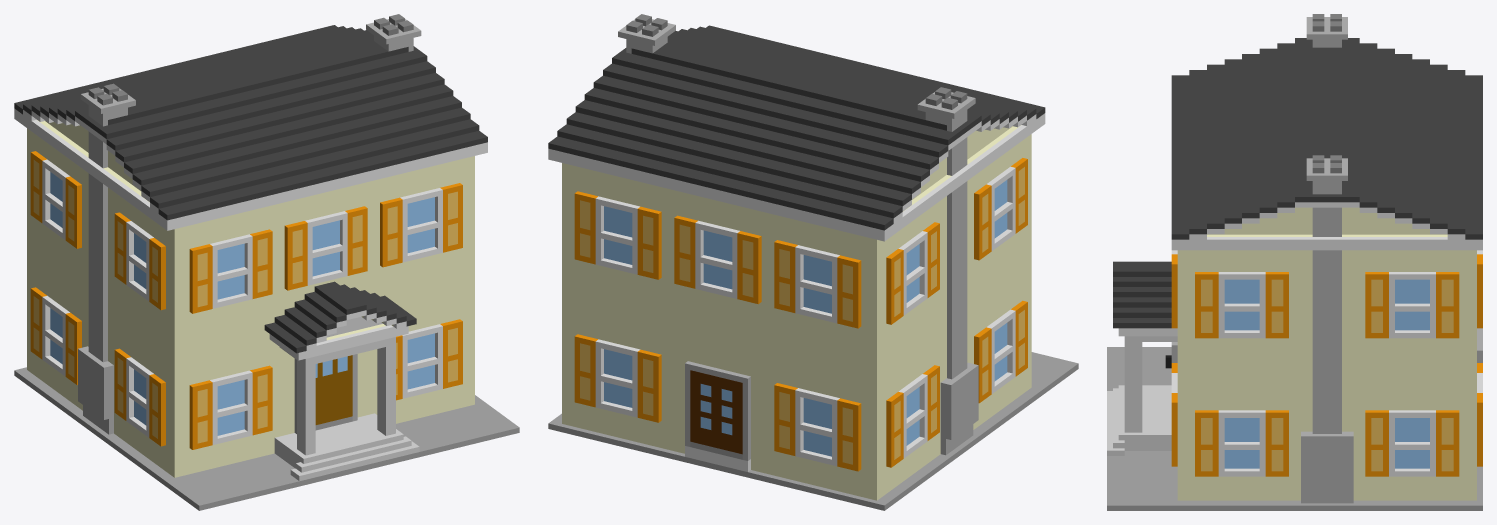
The model's file is obj_house4a.obj.
3 views of the same model, side by side, from view 1: azimuth 30°, elevation 25°; view 2: azimuth 150°, elevation 25°; view 3: azimuth 270°, elevation 25° (orthographic). The views are drawn at different scales.
Size of the model in its own units: 6.4 by 6.4 by 6.4.
1 material, 1 textured.
